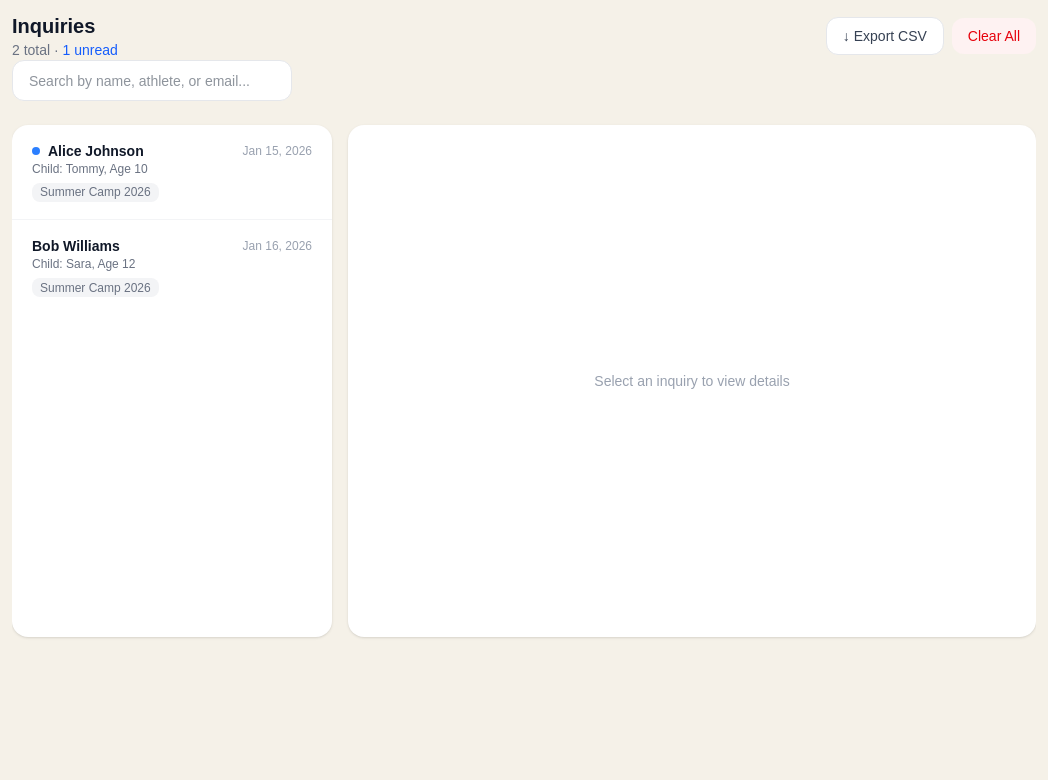
Test: Inquiries Page › shows inquiry detail on click
The image size is (1048, 780).
Click the text "Alice Johnson" at (96, 151), box [48,141,144,161]
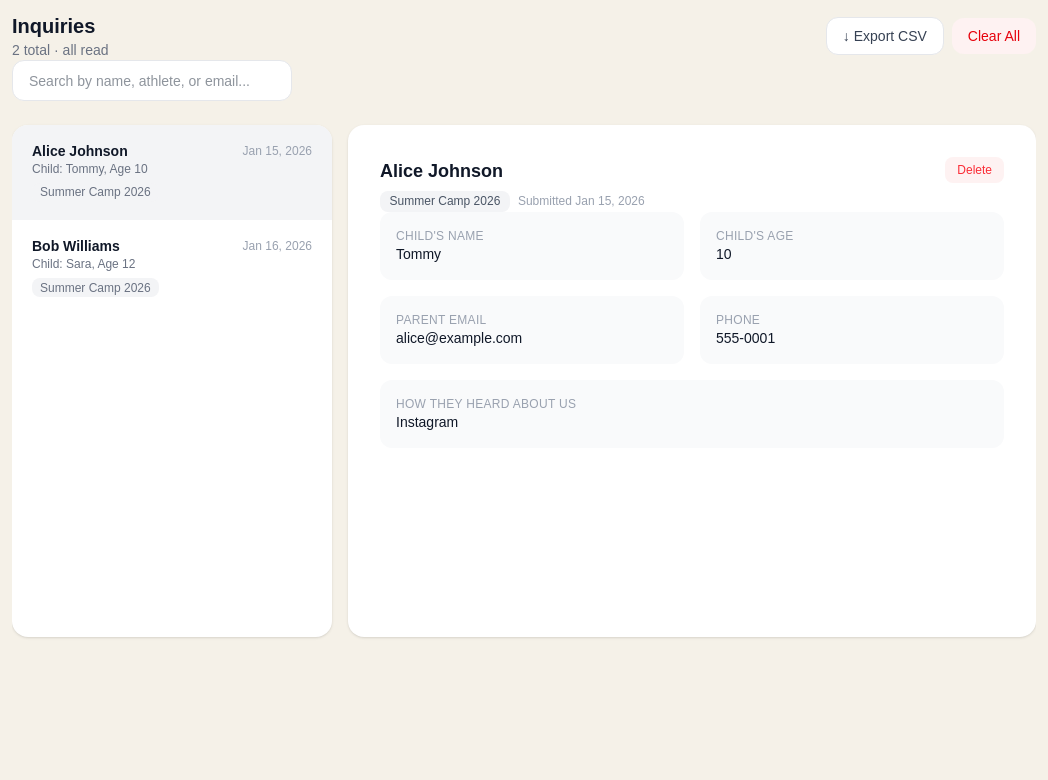
Check: the text "alice@example.com" is shown, box [396,330,522,346]
